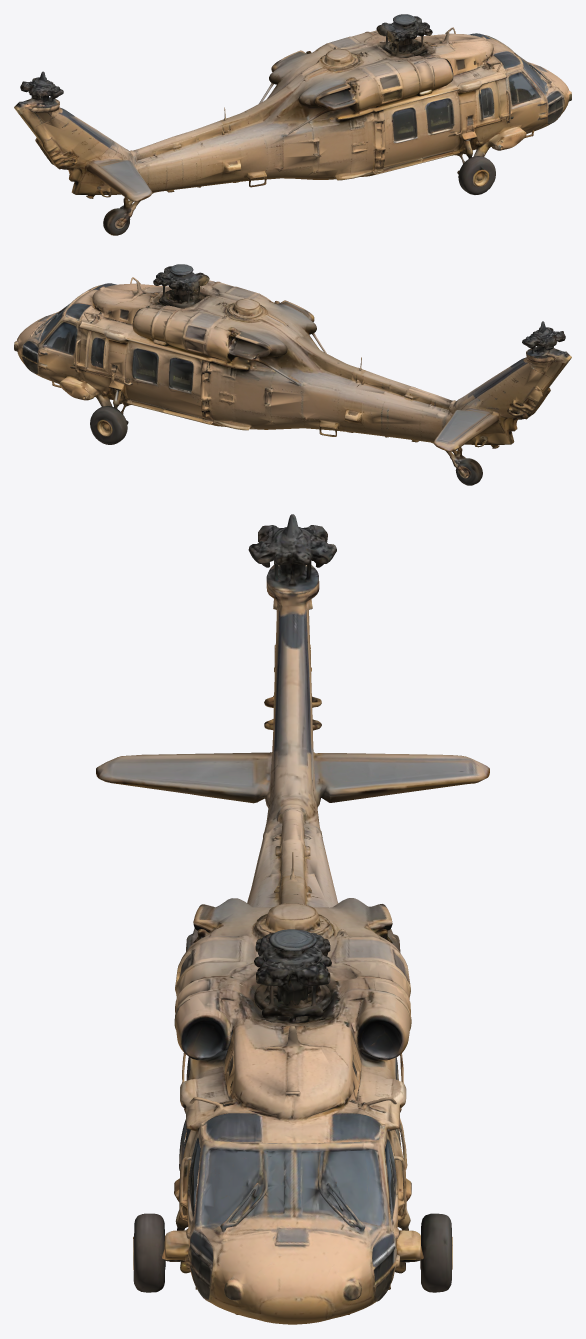
The model's file is heli_blackhawk.glb.
3 renders of one model, top to bottom at view 1: azimuth 30°, elevation 25°; view 2: azimuth 150°, elevation 25°; view 3: azimuth 270°, elevation 25°, orthographic. The views are drawn at different scales.
Visible parts, largest first — view 1: node_0; view 2: node_0; view 3: node_0.
Boxes of the visible parts, <box> form: node_0: <box>14,14,571,235</box>; node_0: <box>14,264,571,485</box>; node_0: <box>96,514,489,1324</box>.
Bounding box in the file's own units: 1.17 × 0.3937 × 0.3643.
Materials: 1 (1 with a texture image).
